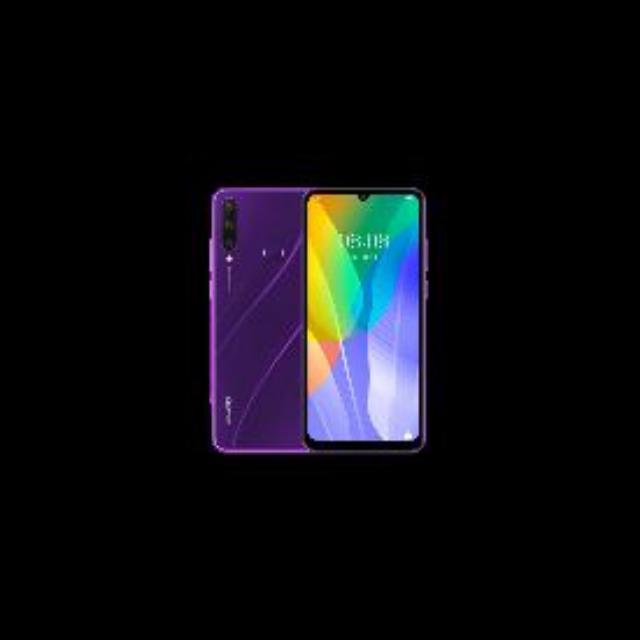Phone: (302, 186, 428, 454), (210, 186, 306, 454)
